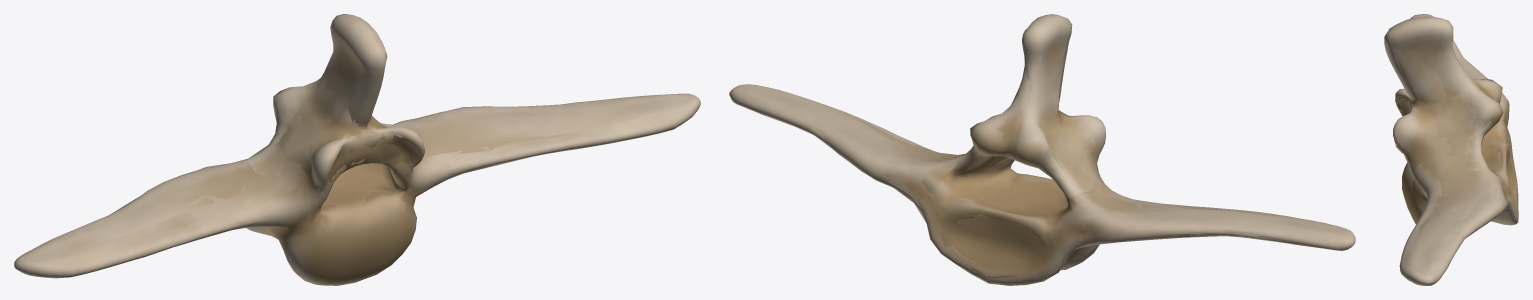
Rendered from vertebrae lumbales 5.fbx.
The picture shows the model from 3 angles, left to right: view 1: azimuth 30°, elevation 25°; view 2: azimuth 150°, elevation 25°; view 3: azimuth 270°, elevation 25°; orthographic projection. The views are drawn at different scales.
Parts seen in each view (by area): view 1: vertebrae lumbales 5, vertebrae lumbales 5 low; view 2: vertebrae lumbales 5, vertebrae lumbales 5 low; view 3: vertebrae lumbales 5, vertebrae lumbales 5 low.
Boxes of the visible parts, x1,y1,x2,y2 form: vertebrae lumbales 5: (14,14,700,285); vertebrae lumbales 5 low: (109,42,571,241); vertebrae lumbales 5: (729,14,1355,285); vertebrae lumbales 5 low: (782,42,1295,277); vertebrae lumbales 5: (1384,14,1518,285); vertebrae lumbales 5 low: (1394,41,1518,247).
Bounding box in the file's own units: 31.29 × 11.73 × 6.67.
1 material, 1 textured.
